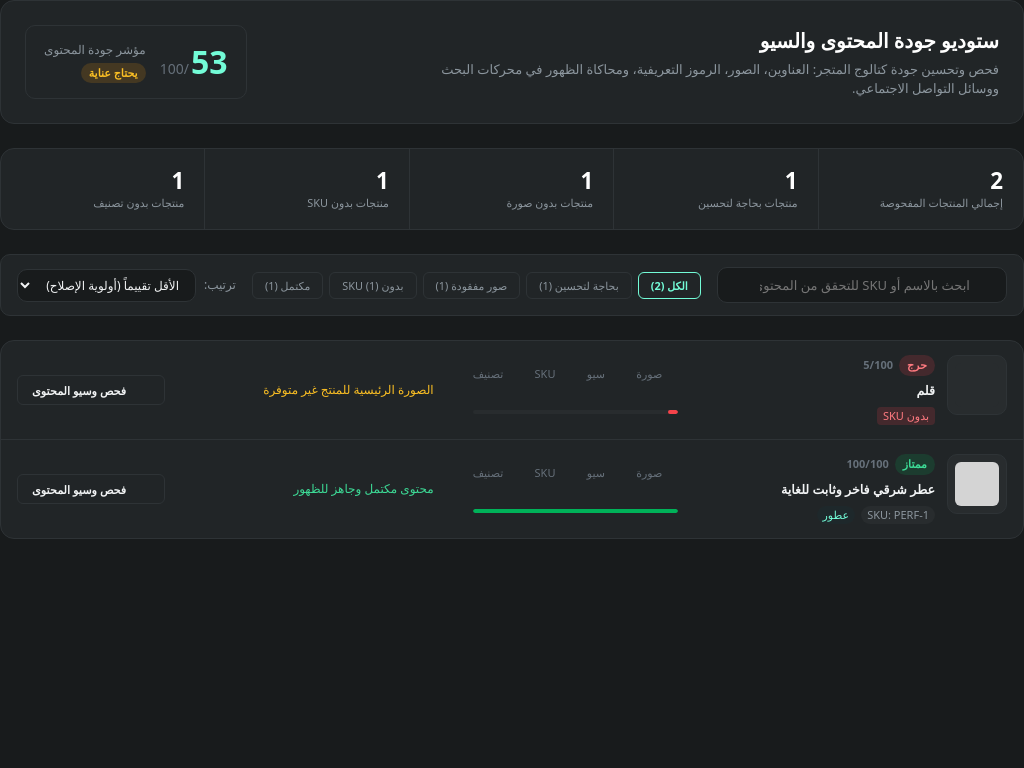
Scenario: ContentStudio › filters products based on search input
This screenshot has width=1024, height=768.
Step 1. Type "عطر" into the search field with placeholder "ابحث بالاسم أو SKU للتحقق من المحتوى..." → (862, 285), box top-left (717, 267), bottom-right (1007, 303)
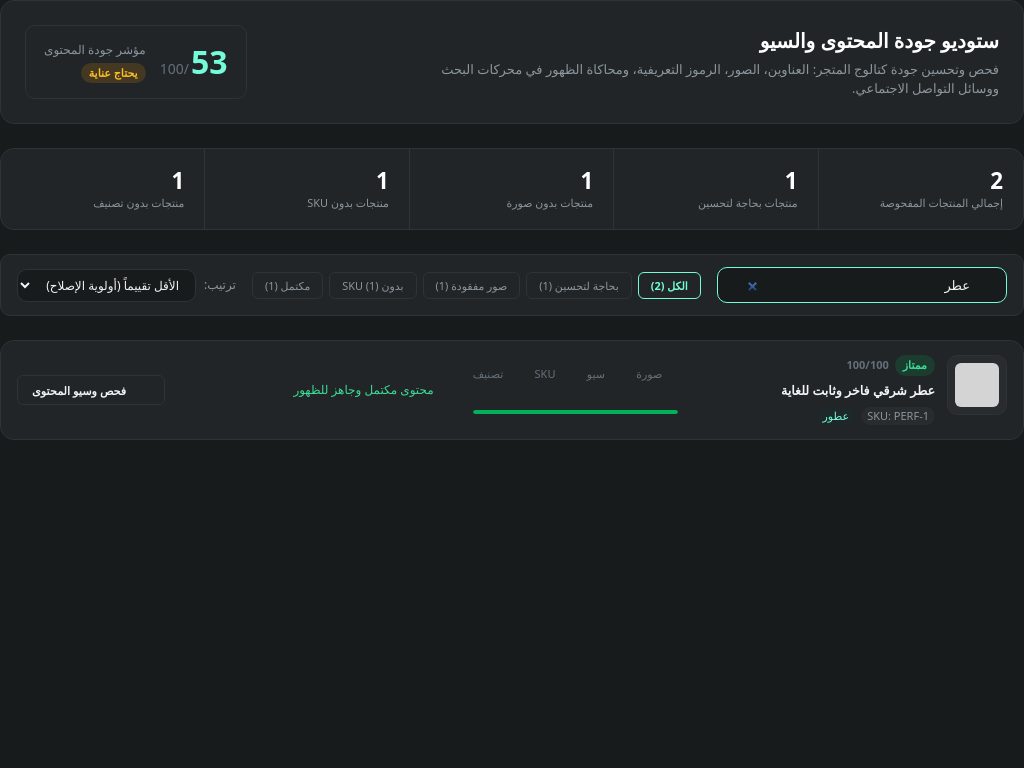
Check: the heading "عطر شرقي فاخر وثابت للغاية" is shown, box top-left (781, 382), bottom-right (935, 399)
Check: the heading "قلم" is gone
